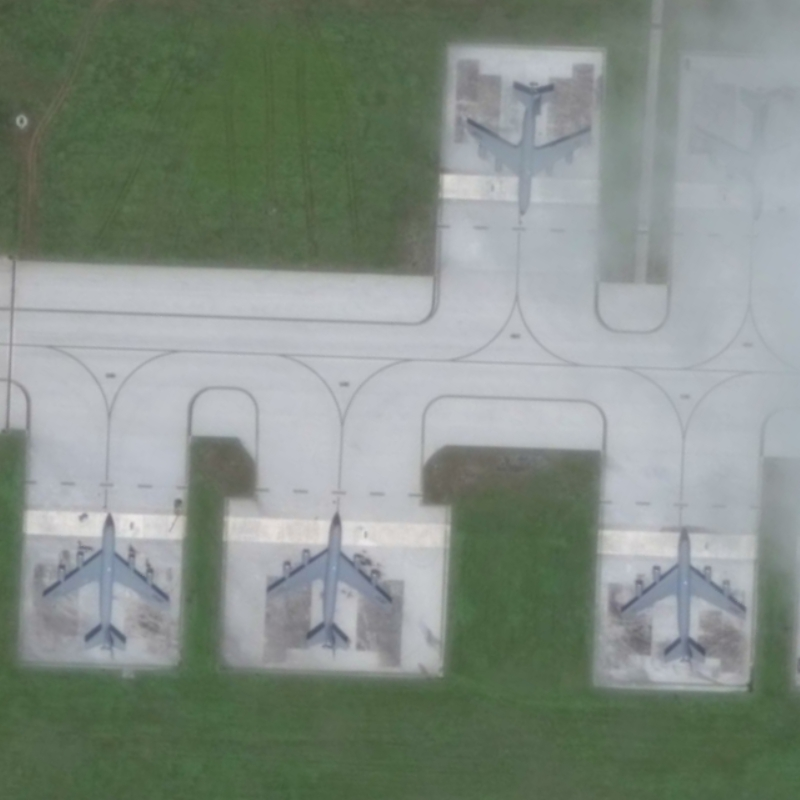A14: (259, 503, 397, 656), (614, 518, 750, 669), (37, 509, 176, 655), (461, 76, 596, 220)
